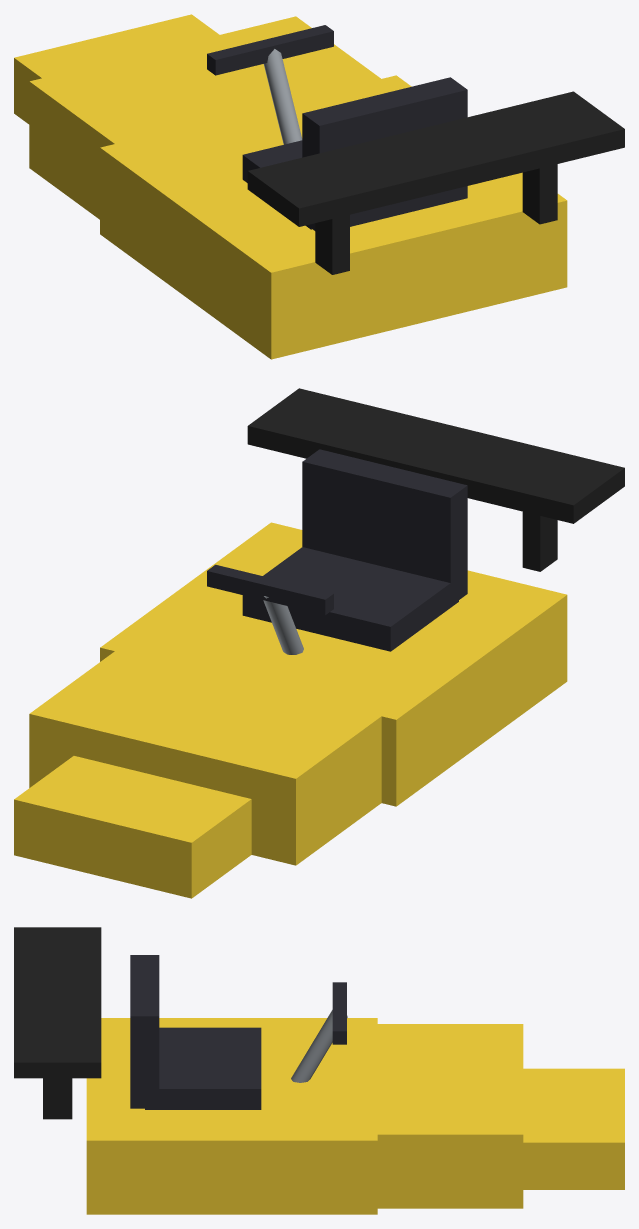
File: kart_bolt.glb
3 views of the same model, one above another, from view 1: azimuth 30°, elevation 25°; view 2: azimuth 150°, elevation 25°; view 3: azimuth 270°, elevation 25° (orthographic). The views are drawn at different scales.
Visible parts, largest first — view 1: kart_bolt; view 2: kart_bolt; view 3: kart_bolt.
Boxes of the visible parts, x1=… form: kart_bolt: x1=14, y1=14, x2=624, y2=359; kart_bolt: x1=14, y1=388, x2=624, y2=898; kart_bolt: x1=14, y1=927, x2=624, y2=1214.
Size of the model in its own units: 1.1 by 0.635 by 2.1.
